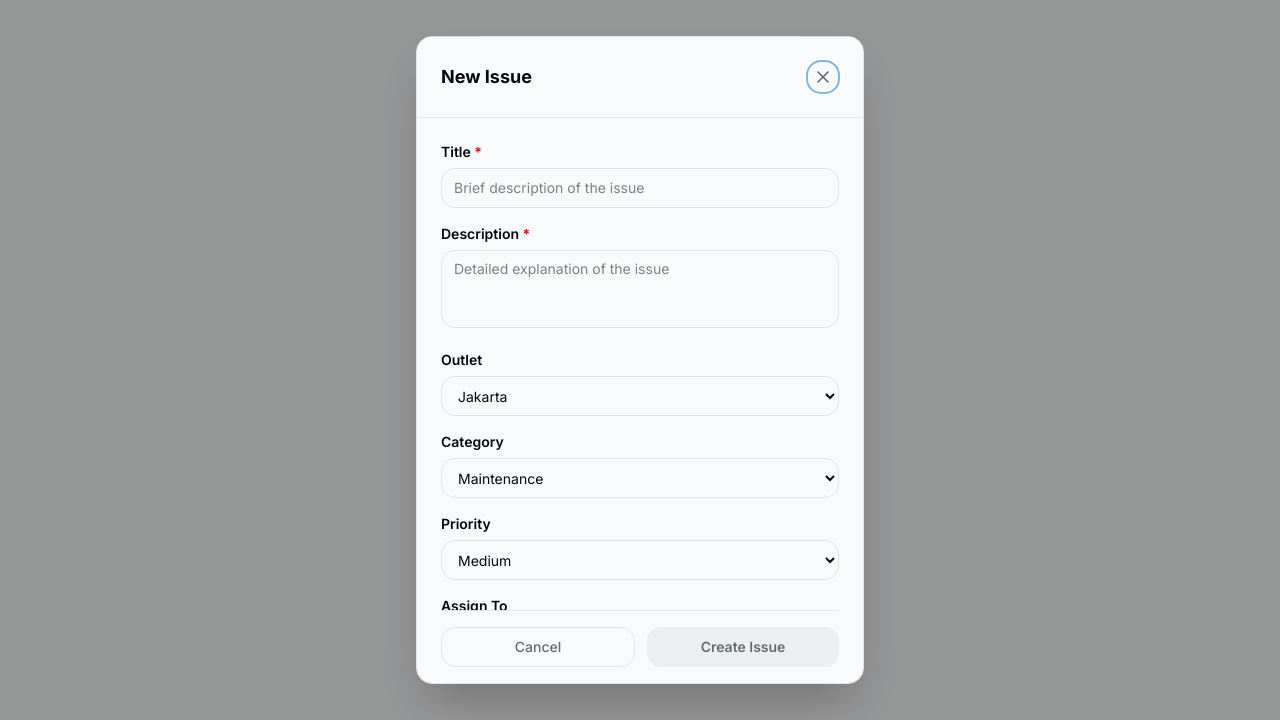
Scenario: CreateIssueDialog › keeps Create disabled until the required fields are filled
The width and height of the screenshot is (1280, 720).
Expected: the button "Create Issue" is disabled, x1=647 y1=627 x2=839 y2=667
Type "Kompor rusak" into the field labelled "Title *". click: (640, 188)
box: x1=441 y1=168 x2=839 y2=208
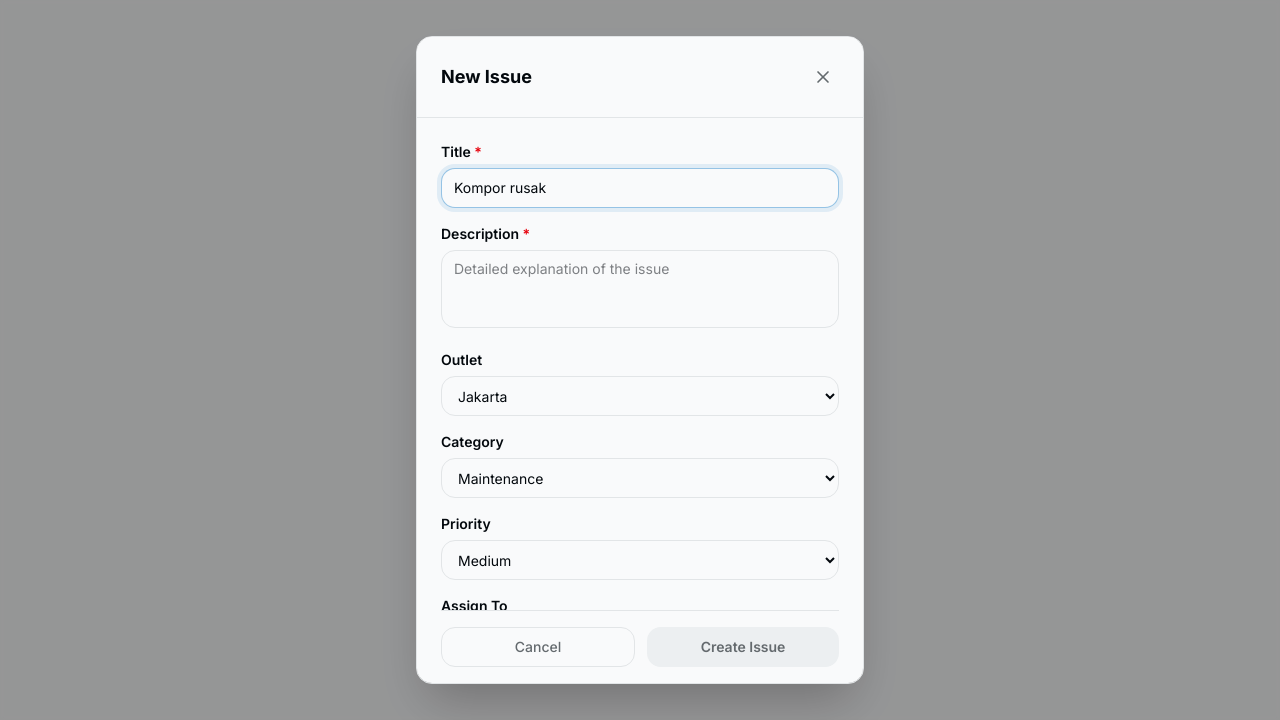
Type "Api tidak menyala" into the text box labelled "Description *". click: (640, 289)
box: x1=441 y1=250 x2=839 y2=328
(page scrolled)
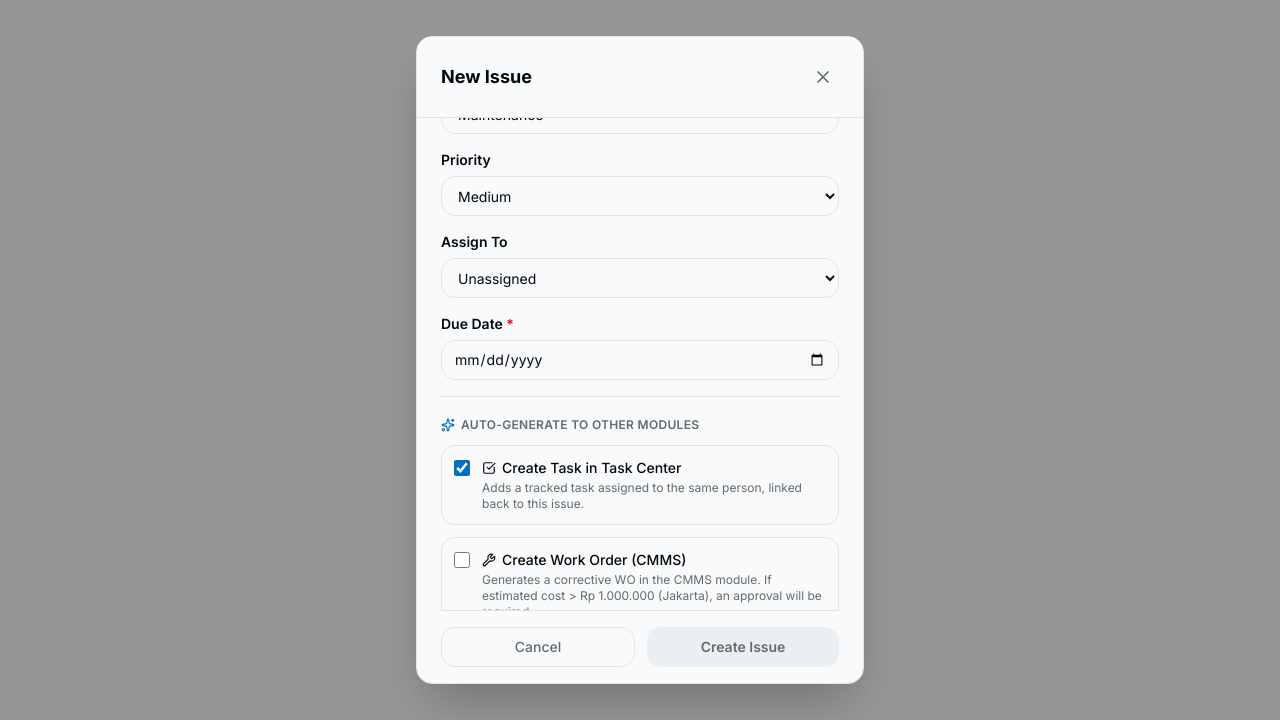
Type "2026-10-10" into the date field labelled "Due Date *". click: (640, 360)
box: x1=441 y1=340 x2=839 y2=380
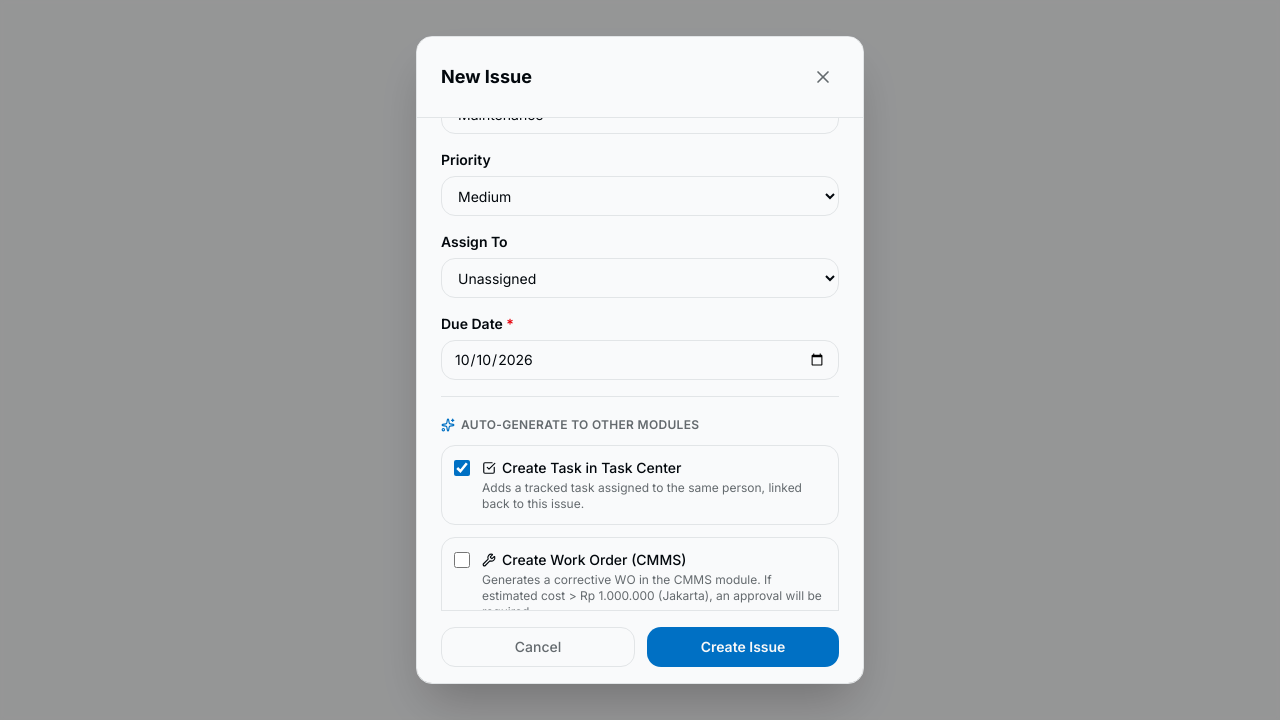
Expected: the button "Create Issue" is enabled, x1=647 y1=627 x2=839 y2=667
